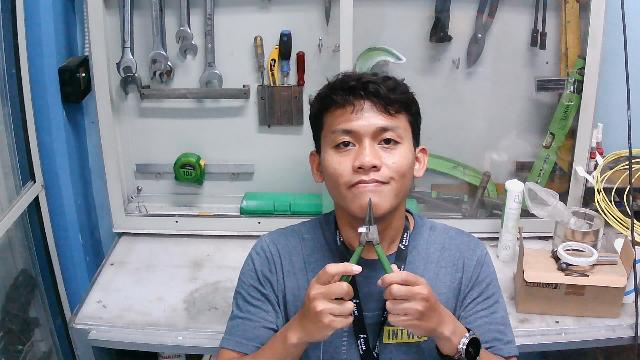tang_cucut_lancip_2: (330, 194, 403, 305)
